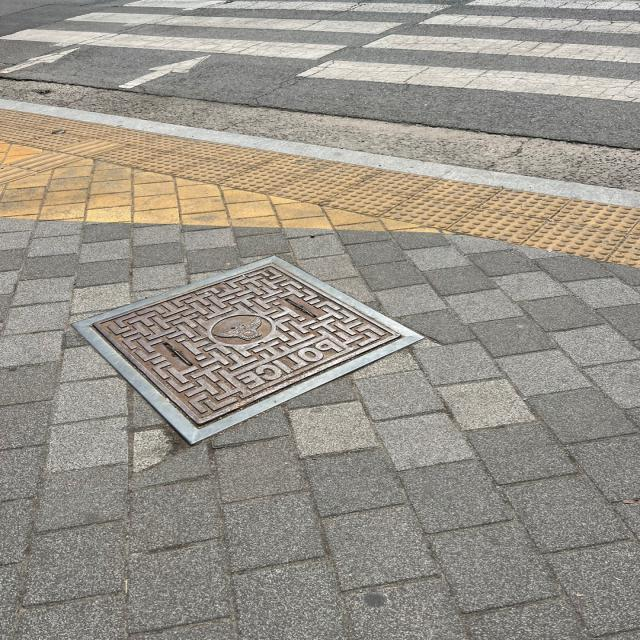Sewer Cover: (51, 239, 428, 444)
